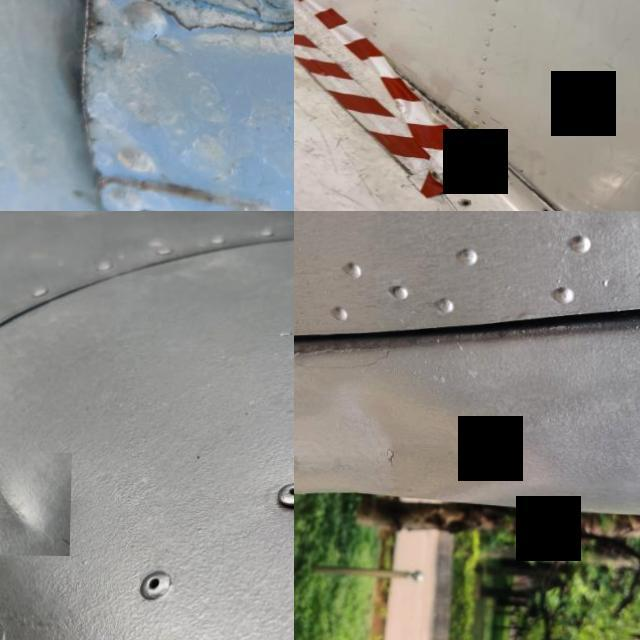Crack: (408, 78, 514, 159)
Dent: (0, 450, 73, 555)
Missing_Fastener: (540, 206, 556, 211), (461, 199, 473, 205)
